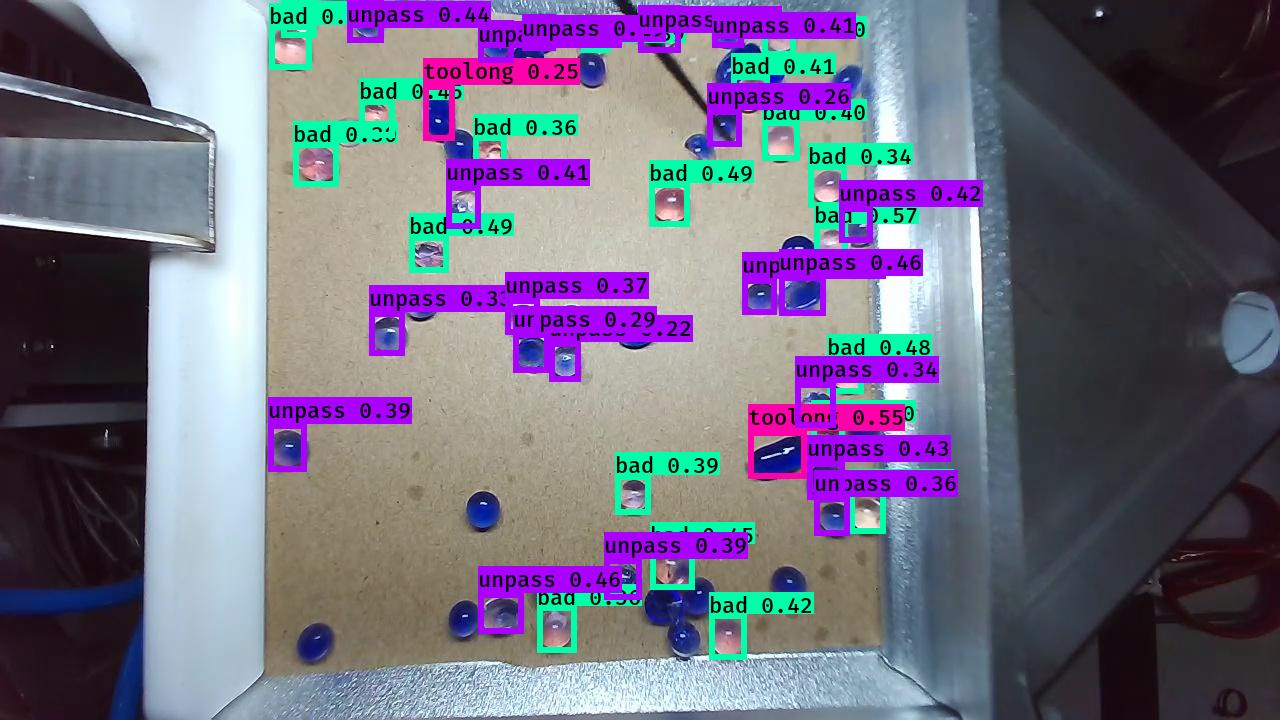bad: (649, 545, 695, 590), (295, 143, 342, 187), (651, 182, 691, 227), (272, 29, 313, 70), (706, 617, 747, 658), (845, 496, 886, 536), (474, 136, 512, 179), (762, 120, 799, 161), (359, 101, 395, 142), (538, 611, 574, 652), (812, 229, 850, 266), (409, 241, 451, 274), (809, 168, 846, 205), (828, 359, 867, 394), (761, 14, 795, 53), (614, 478, 651, 513), (282, 1, 319, 35), (329, 118, 365, 152), (735, 74, 767, 112), (811, 426, 845, 459), (575, 22, 605, 53)
defact: (682, 134, 719, 169)
pass: (616, 311, 662, 350), (296, 622, 336, 665), (530, 567, 569, 611), (643, 587, 686, 626), (847, 410, 882, 456), (768, 566, 807, 607), (465, 489, 502, 532), (446, 597, 481, 641), (558, 300, 593, 342), (511, 44, 546, 84), (780, 235, 817, 272), (667, 623, 703, 660), (574, 49, 606, 90), (686, 574, 715, 619), (445, 133, 478, 170)
toolong: (747, 432, 810, 483), (713, 43, 761, 92), (423, 88, 459, 146)
unpass: (267, 428, 313, 473), (779, 271, 824, 315), (638, 11, 684, 52), (481, 591, 522, 637), (370, 316, 410, 358), (808, 462, 845, 502), (828, 65, 865, 105), (350, 1, 385, 43), (401, 284, 439, 322), (506, 301, 543, 340), (517, 333, 552, 373), (477, 24, 514, 61), (450, 187, 481, 230), (817, 496, 853, 533), (549, 343, 585, 380), (842, 209, 876, 248), (799, 388, 835, 424), (707, 108, 740, 147), (607, 562, 641, 599), (528, 16, 560, 52), (716, 12, 748, 48), (747, 283, 777, 316)
